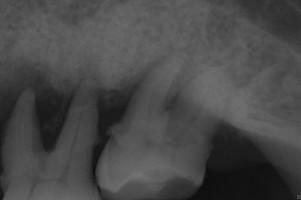Dental Caries: (0, 57, 79, 152)
Endo-Periodontal Lesion: (160, 92, 180, 112)
Furcation Involvement: (77, 50, 102, 87)
